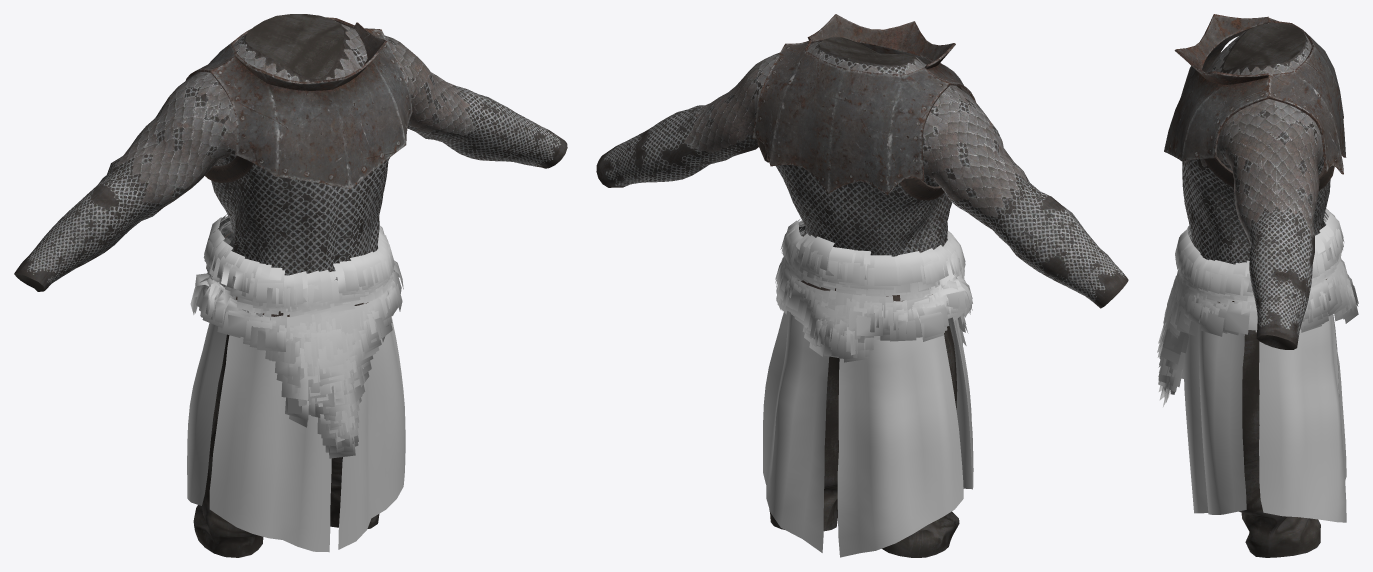
Rendered from sk_gb_uruk_chest_med_f.fbx.
3 views of the same model, side by side, from view 1: azimuth 30°, elevation 25°; view 2: azimuth 150°, elevation 25°; view 3: azimuth 270°, elevation 25° (orthographic). The views are drawn at different scales.
Parts seen in each view (by area): view 1: sk_gb_uruk_chest_med_f.base.0, sk_gb_uruk_chest_med_f.skirt.1, sk_gb_uruk_chest_med_f.skirt.2, sk_gb_uruk_chest_med_f.base.2, sk_gb_uruk_chest_med_f.base.1; view 2: sk_gb_uruk_chest_med_f.base.0, sk_gb_uruk_chest_med_f.skirt.1, sk_gb_uruk_chest_med_f.base.2, sk_gb_uruk_chest_med_f.skirt.2, sk_gb_uruk_chest_med_f.base.1; view 3: sk_gb_uruk_chest_med_f.base.0, sk_gb_uruk_chest_med_f.skirt.1, sk_gb_uruk_chest_med_f.base.2, sk_gb_uruk_chest_med_f.skirt.2, sk_gb_uruk_chest_med_f.base.1.
Boxes of the visible parts, x1,y1,x2,y2 form: sk_gb_uruk_chest_med_f.base.0: [14, 14, 567, 557]; sk_gb_uruk_chest_med_f.skirt.1: [187, 316, 405, 552]; sk_gb_uruk_chest_med_f.skirt.2: [190, 214, 403, 458]; sk_gb_uruk_chest_med_f.base.2: [185, 17, 412, 189]; sk_gb_uruk_chest_med_f.base.1: [205, 155, 253, 182]; sk_gb_uruk_chest_med_f.base.0: [596, 37, 1128, 557]; sk_gb_uruk_chest_med_f.skirt.1: [763, 311, 973, 557]; sk_gb_uruk_chest_med_f.base.2: [752, 14, 975, 194]; sk_gb_uruk_chest_med_f.skirt.2: [775, 219, 972, 362]; sk_gb_uruk_chest_med_f.base.1: [757, 140, 944, 200]; sk_gb_uruk_chest_med_f.base.0: [1182, 22, 1330, 557]; sk_gb_uruk_chest_med_f.skirt.1: [1183, 312, 1346, 522]; sk_gb_uruk_chest_med_f.base.2: [1164, 14, 1346, 174]; sk_gb_uruk_chest_med_f.skirt.2: [1157, 208, 1358, 406]; sk_gb_uruk_chest_med_f.base.1: [1204, 157, 1334, 190].
Size of the model in its own units: 1.35 by 0.4541 by 1.2.
